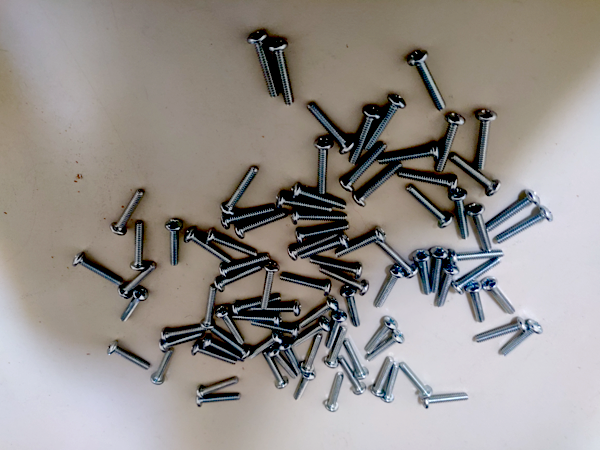longscrew: (309, 99, 353, 156), (365, 95, 402, 157), (409, 51, 447, 111), (339, 146, 386, 192), (489, 192, 541, 231), (498, 209, 554, 245), (348, 103, 377, 166), (251, 30, 277, 98), (270, 40, 296, 108), (108, 187, 144, 236), (406, 187, 450, 227), (453, 154, 498, 193), (358, 166, 400, 207), (469, 110, 497, 170), (437, 112, 465, 172), (224, 165, 257, 215), (72, 252, 123, 284), (454, 258, 502, 291), (218, 204, 277, 230), (397, 166, 460, 190), (475, 319, 527, 348), (500, 323, 542, 358), (373, 143, 439, 165), (336, 230, 386, 259), (299, 233, 349, 262), (290, 187, 348, 212), (121, 262, 158, 301), (189, 230, 230, 265), (206, 233, 261, 259), (286, 233, 335, 262), (378, 243, 416, 280), (235, 212, 289, 238), (296, 298, 336, 333), (311, 137, 334, 197), (280, 275, 334, 300), (216, 268, 262, 297), (306, 257, 363, 280), (211, 328, 248, 362), (319, 270, 367, 296), (215, 255, 271, 277), (374, 267, 403, 309), (484, 280, 519, 314), (216, 307, 245, 347), (118, 288, 149, 325), (470, 204, 493, 253), (109, 343, 149, 371), (297, 224, 350, 245), (367, 332, 405, 361), (365, 317, 397, 351), (292, 321, 330, 349), (369, 357, 394, 398), (402, 366, 436, 396), (158, 332, 208, 352), (451, 188, 470, 240), (268, 348, 298, 380), (203, 340, 243, 364), (340, 358, 365, 396), (345, 340, 368, 381), (325, 327, 348, 368), (413, 250, 433, 296), (324, 310, 347, 350), (259, 261, 277, 312), (291, 212, 348, 228), (192, 347, 235, 368), (339, 288, 361, 329), (277, 194, 330, 211), (439, 265, 459, 310), (429, 248, 449, 293), (251, 334, 281, 364), (246, 321, 298, 338), (195, 378, 238, 398), (322, 375, 345, 412), (301, 334, 323, 372), (293, 369, 315, 407), (131, 221, 147, 271), (229, 297, 282, 312), (265, 354, 287, 390), (420, 395, 471, 410), (192, 394, 243, 409), (200, 285, 218, 327), (467, 282, 486, 321), (166, 218, 181, 267), (232, 311, 283, 325), (279, 342, 298, 379), (149, 351, 169, 384), (450, 250, 504, 262), (386, 364, 401, 403), (153, 329, 199, 341), (250, 305, 303, 315)
